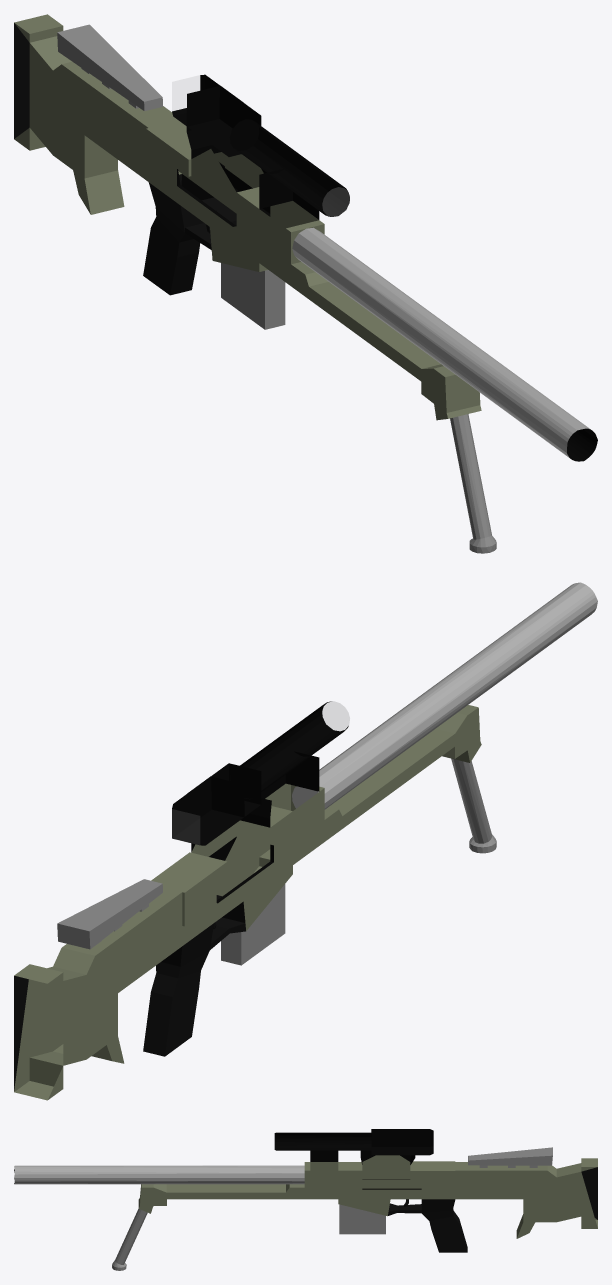
File: Sniper.glb
The picture shows the model from 3 angles, top to bottom: view 1: azimuth 30°, elevation 25°; view 2: azimuth 150°, elevation 25°; view 3: azimuth 270°, elevation 25°; orthographic projection. The views are drawn at different scales.
Visible parts, largest first — view 1: Sniper Rifle; view 2: Sniper Rifle; view 3: Sniper Rifle.
Boxes of the visible parts, x1=… form: Sniper Rifle: x1=14, y1=14, x2=597, y2=553; Sniper Rifle: x1=14, y1=582, x2=597, y2=1100; Sniper Rifle: x1=14, y1=1129, x2=597, y2=1270.
Size of the model in its own units: 0.044 by 0.2596 by 1.02.
